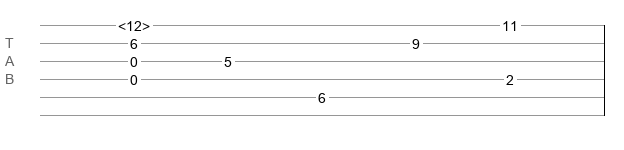0: (130, 54, 138, 64), (130, 72, 138, 82)
11: (502, 18, 518, 28)
2: (506, 72, 514, 82)
5: (224, 54, 232, 64)
6: (130, 36, 138, 46), (318, 90, 326, 100)
9: (412, 36, 420, 46)
harmonic: (118, 18, 150, 28)
